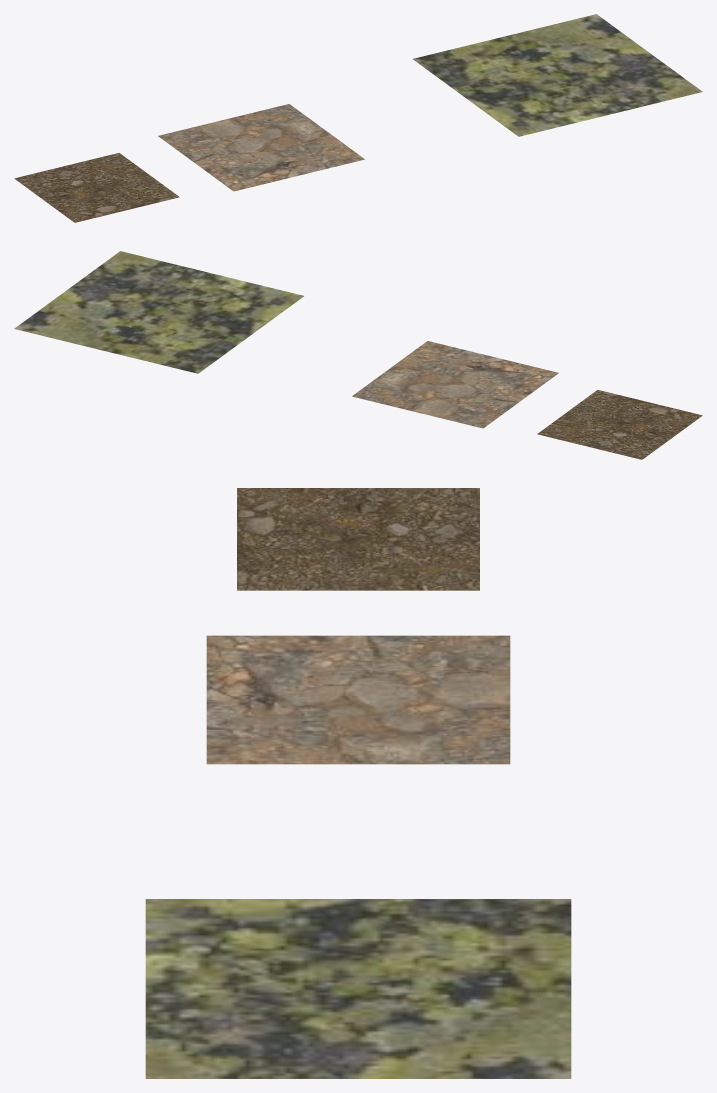
File: ground.glb
3 views of the same model, one above another, from view 1: azimuth 30°, elevation 25°; view 2: azimuth 150°, elevation 25°; view 3: azimuth 270°, elevation 25° (orthographic). The views are drawn at different scales.
Parts seen in each view (by area): view 1: ground_rock, ground_trail, ground_forest; view 2: ground_rock, ground_trail, ground_forest; view 3: ground_rock, ground_trail, ground_forest.
Boxes of the visible parts, x1,y1,x2,y2 form: ground_rock: (413, 14, 702, 136); ground_trail: (158, 104, 364, 191); ground_forest: (14, 153, 179, 222); ground_rock: (14, 251, 303, 373); ground_trail: (352, 341, 558, 428); ground_forest: (537, 390, 702, 459); ground_rock: (145, 899, 571, 1078); ground_trail: (206, 635, 510, 764); ground_forest: (237, 488, 479, 590).
Bounding box in the file's own units: 46 × 0 × 14.
Materials: 3 (3 with a texture image).
